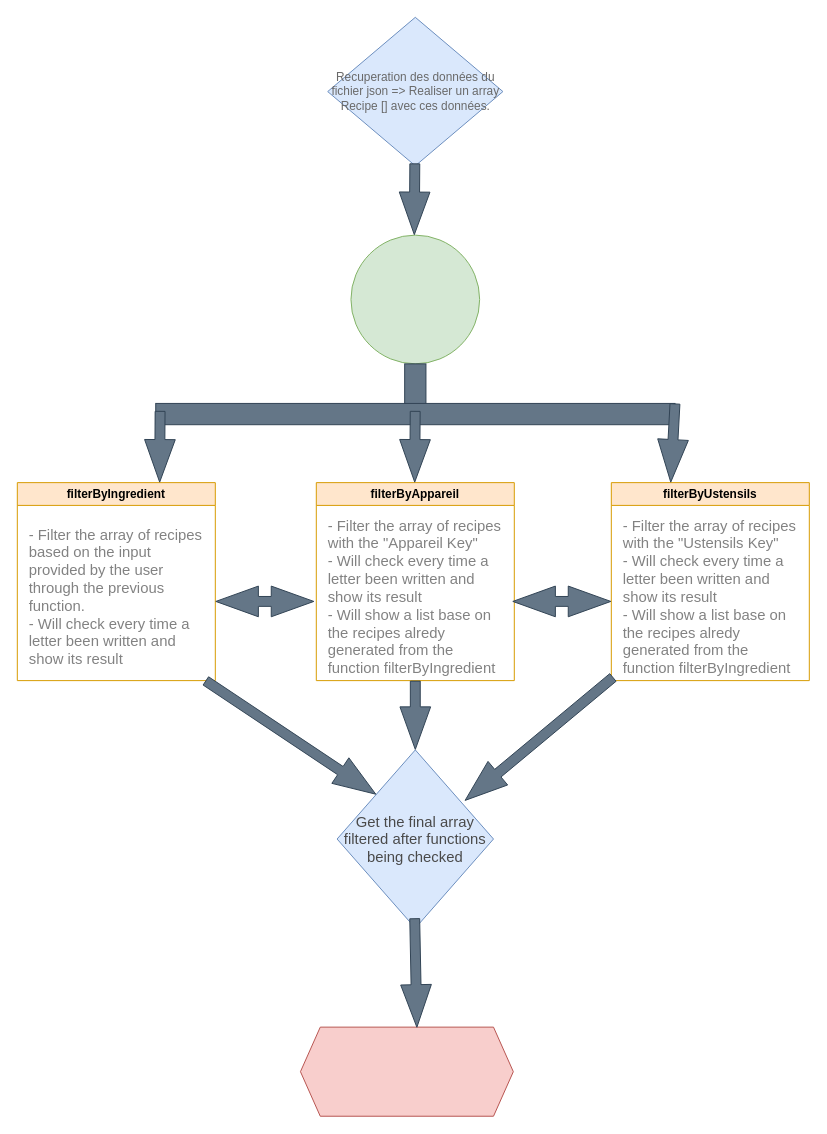
The diagram is 827 pixels wide and 1134 high, and some of its shapes have lost their labels. The centre of each missing label's shape, as x and y in pixels:
"Call render function from class Recipes" goes at point (406, 1071).
"Fonction qui récupère les données écrites par l’utilisateur" goes at point (415, 299).
